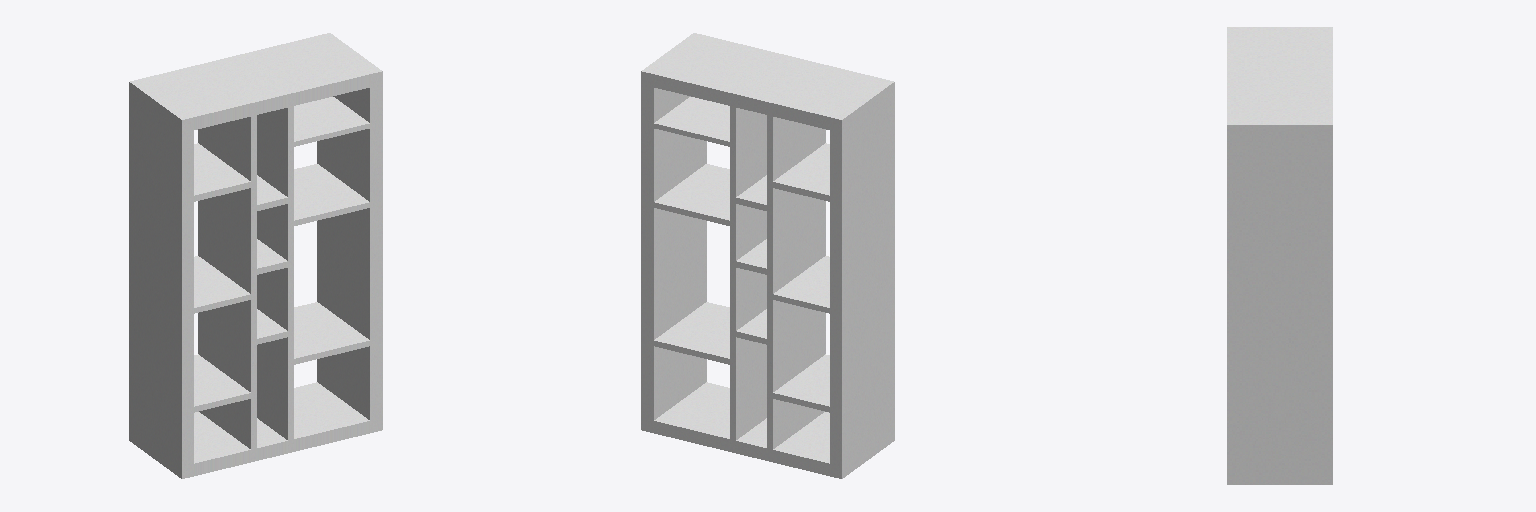
3 views of the same model, side by side, from view 1: azimuth 30°, elevation 25°; view 2: azimuth 150°, elevation 25°; view 3: azimuth 270°, elevation 25° (orthographic).
Visible parts, largest first — view 1: pCube8; view 2: pCube8; view 3: pCube8.
Part boxes in pixels (left/top/right/bottom): pCube8: left=129, top=33, right=382, bottom=478; pCube8: left=641, top=33, right=894, bottom=478; pCube8: left=1227, top=27, right=1332, bottom=484.
Bounding box in the file's own units: 8.6 × 14.7 × 3.91.
Materials: 1 (1 with a texture image).